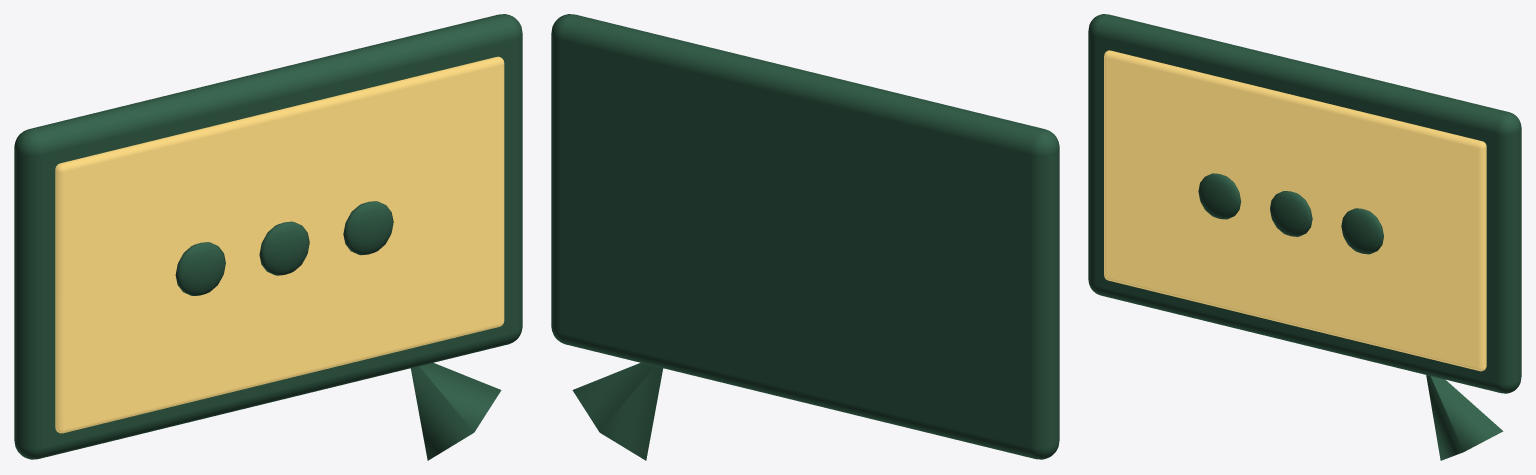
Rendered from art-support-bubble.glb.
3 views of the same model, side by side, from view 1: azimuth 30°, elevation 25°; view 2: azimuth 150°, elevation 25°; view 3: azimuth 330°, elevation 25° (orthographic). The views are drawn at different scales.
Visible parts, largest first — view 1: art-support-bubble_glow_f7d47a, art-support-bubble_m_2f5d46 (×2); view 2: art-support-bubble_m_2f5d46; view 3: art-support-bubble_glow_f7d47a, art-support-bubble_m_2f5d46 (×2).
Part boxes in pixels (x1,y1,x2,y2): art-support-bubble_glow_f7d47a: (55,56,504,433); art-support-bubble_m_2f5d46 (×2): (14,14,522,460); art-support-bubble_m_2f5d46: (551,14,1059,460); art-support-bubble_glow_f7d47a: (1104,50,1486,371); art-support-bubble_m_2f5d46 (×2): (1088,14,1521,460).
Size of the model in its own units: 0.9 by 0.7295 by 0.095.
